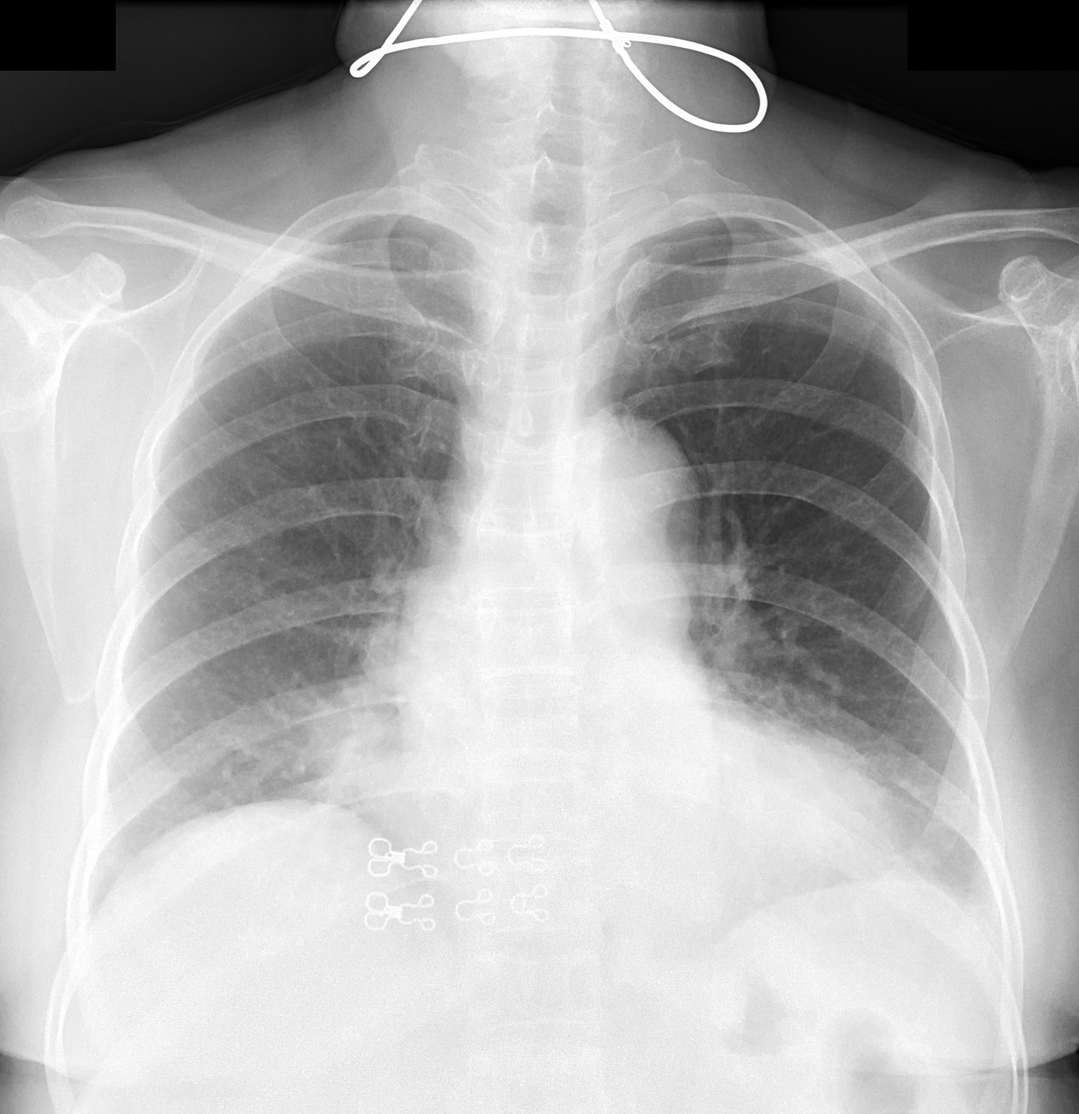Aortic enlargement: (552, 421, 705, 531)
Cardiomegaly: (387, 752, 913, 911)
